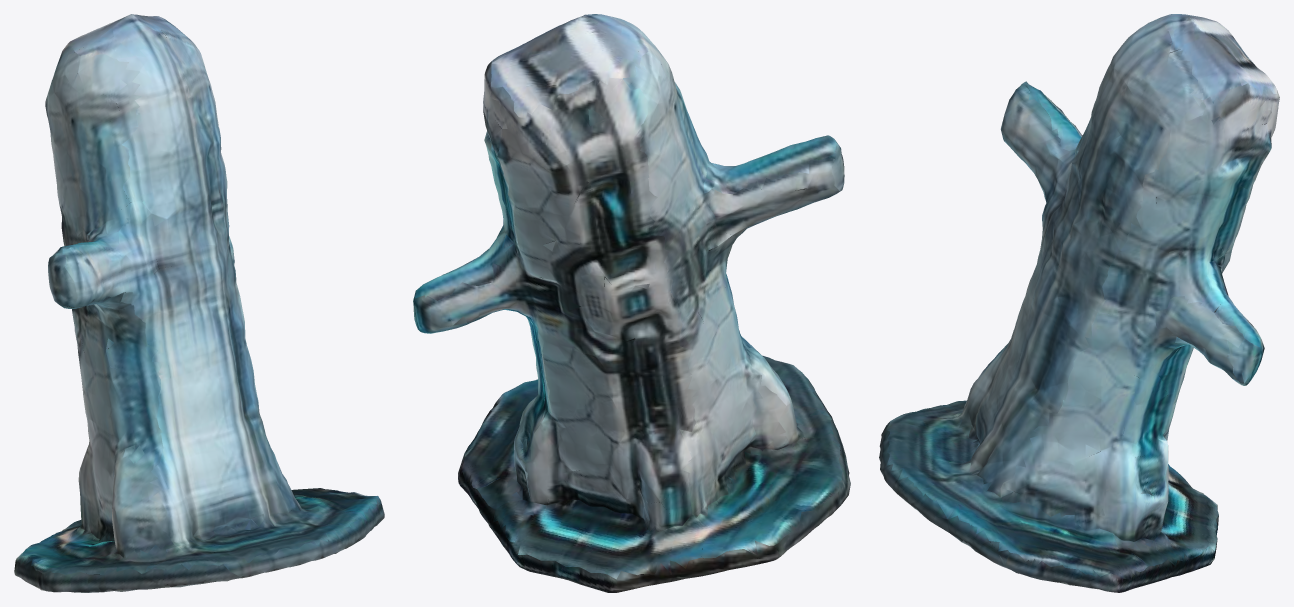
File: nexus_wall.glb
3 views of the same model, side by side, from view 1: azimuth 30°, elevation 25°; view 2: azimuth 150°, elevation 25°; view 3: azimuth 270°, elevation 25° (orthographic). The views are drawn at different scales.
Visible parts, largest first — view 1: geometry_0; view 2: geometry_0; view 3: geometry_0.
Boxes of the visible parts, x1,y1,x2,y2 form: geometry_0: (14, 14, 384, 592); geometry_0: (413, 14, 850, 592); geometry_0: (879, 14, 1279, 592).
Bounding box in the file's own units: 0.5947 × 0.8994 × 0.6247.
Materials: 1 (1 with a texture image).
